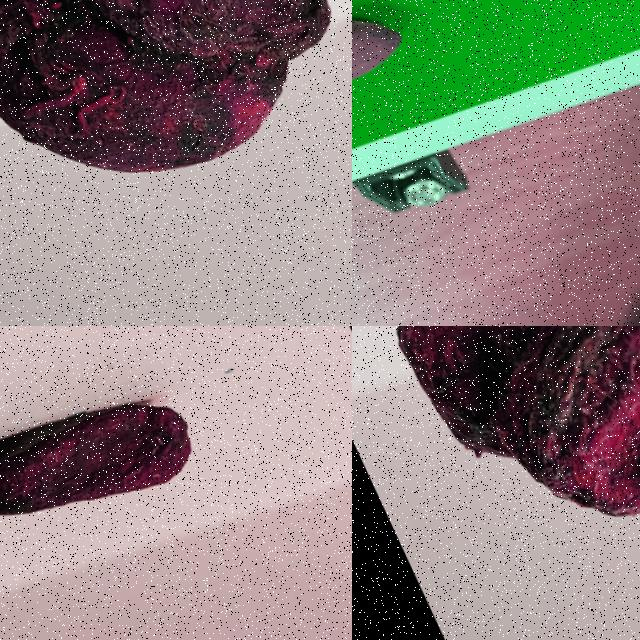Agglomerated_cocoabeans: (0, 0, 351, 298), (352, 326, 639, 639)
Fine_cocoabeans: (352, 0, 530, 189)
Flat_cocoabeans: (0, 326, 288, 623)
